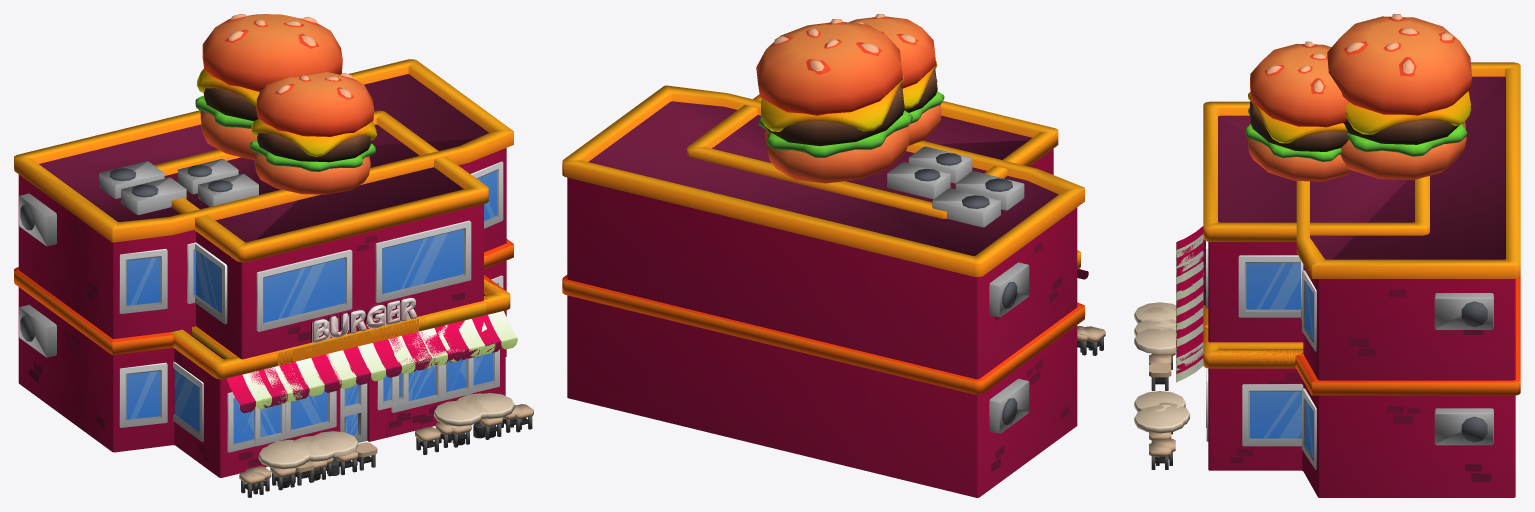
File: Burger.fbx
3 views of the same model, side by side, from view 1: azimuth 30°, elevation 25°; view 2: azimuth 150°, elevation 25°; view 3: azimuth 270°, elevation 25° (orthographic). The views are drawn at different scales.
Visible parts, largest first — view 1: Store Burger Level 5, Store Burger Level 4, Store Burger Level 3, Store Burger Level 2, Store Burger Level 1; view 2: Store Burger Level 5, Store Burger Level 4; view 3: Store Burger Level 5, Store Burger Level 4, Store Burger Level 3, Store Burger Level 2, Store Burger Level 1.
Part boxes in pixels (bbox=[...]): Store Burger Level 5: bbox=[14, 14, 533, 497]; Store Burger Level 4: bbox=[154, 72, 502, 490]; Store Burger Level 3: bbox=[170, 279, 523, 494]; Store Burger Level 2: bbox=[274, 309, 463, 485]; Store Burger Level 1: bbox=[307, 303, 429, 442]; Store Burger Level 5: bbox=[562, 19, 1105, 497]; Store Burger Level 4: bbox=[687, 14, 1058, 218]; Store Burger Level 5: bbox=[1134, 14, 1520, 497]; Store Burger Level 4: bbox=[1134, 41, 1429, 442]; Store Burger Level 3: bbox=[1140, 226, 1303, 470]; Store Burger Level 2: bbox=[1134, 255, 1208, 390]; Store Burger Level 1: bbox=[1176, 273, 1203, 338].
Bounding box in the file's own units: 1923 × 1559 × 1490.
